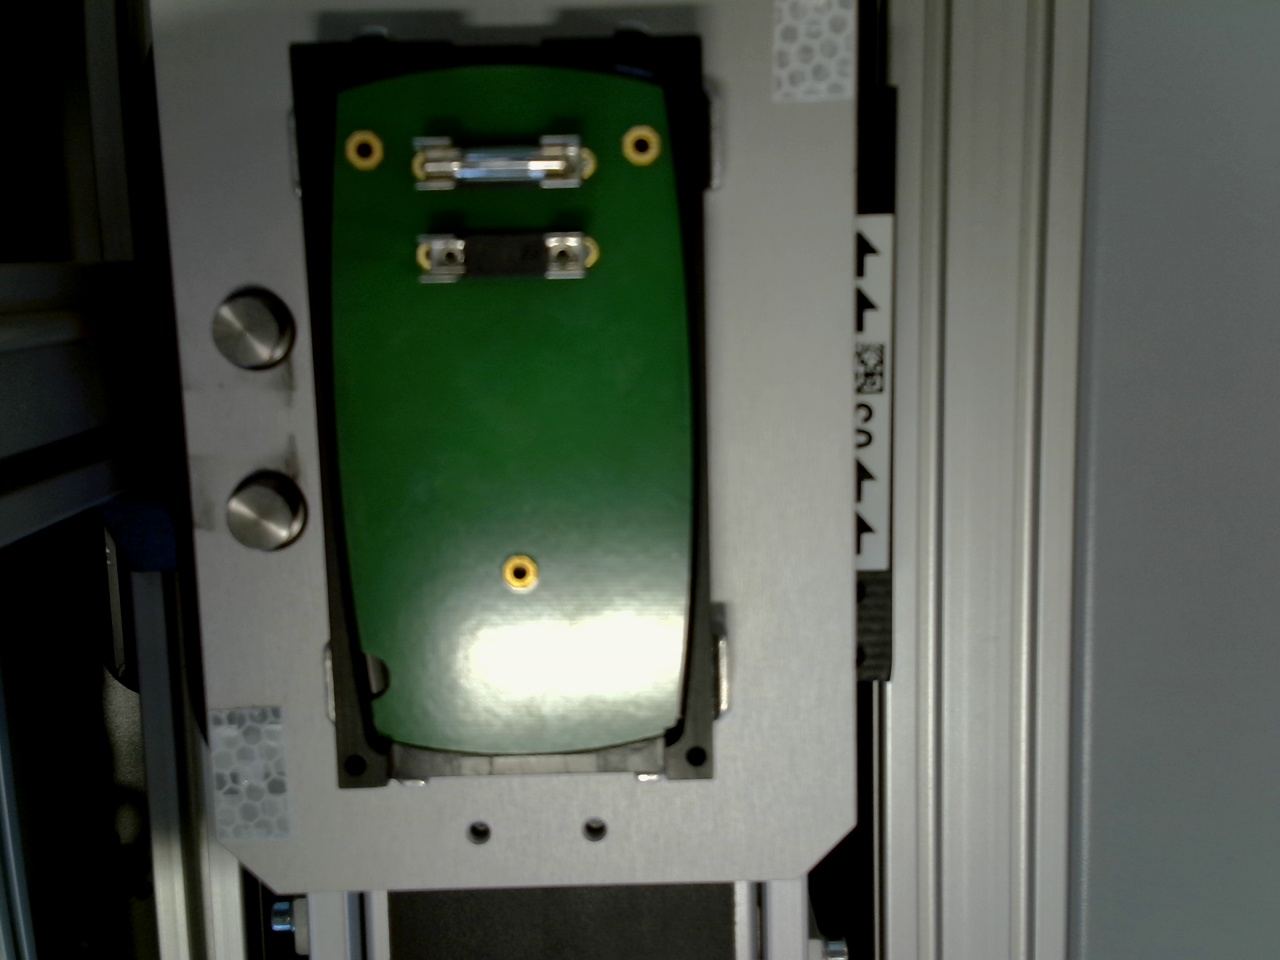Onefuse: (420, 141, 574, 192)
